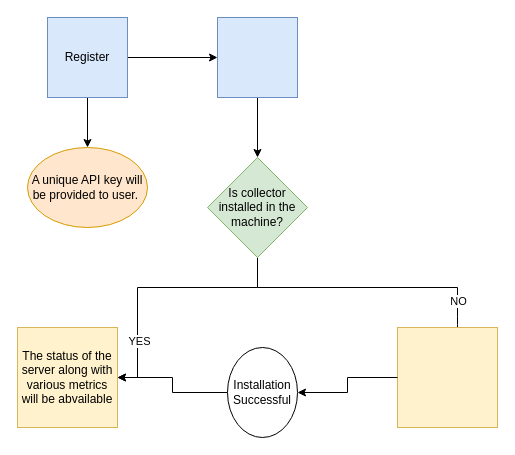
This 515x455 diagram has some shape labels left out. Each missing label, with the centre of its shape:
Login: [257,57]
The user will be asked to download the collector and install with API key.: [447,377]
